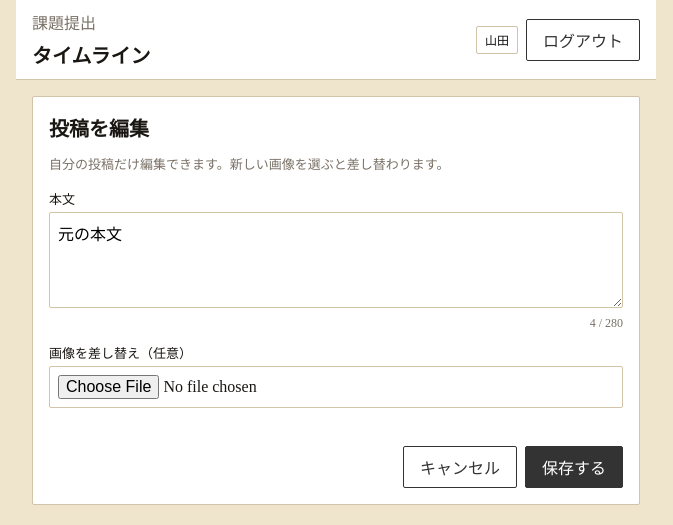
Test: EditPage › shows the API error when save fails
Check: the text box showing "元の本文" is shown, box [49,212,623,308]
Click the button "保存する" at (574, 467), box [525,446,623,488]
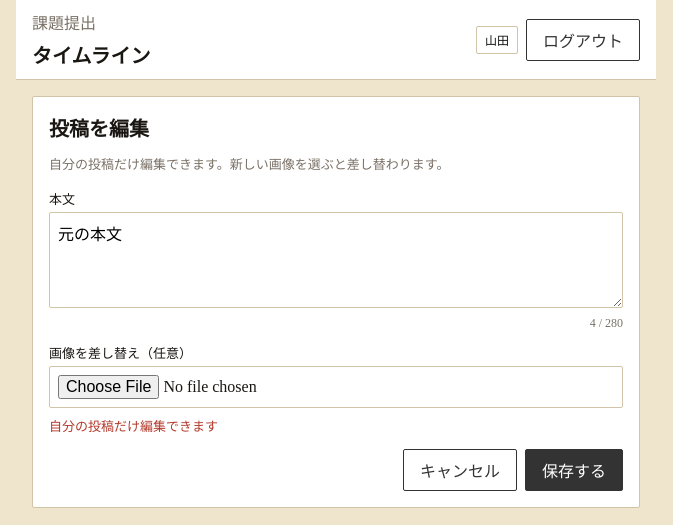
Check: the text "自分の投稿だけ編集できます" is shown, box [49,419,218,434]
